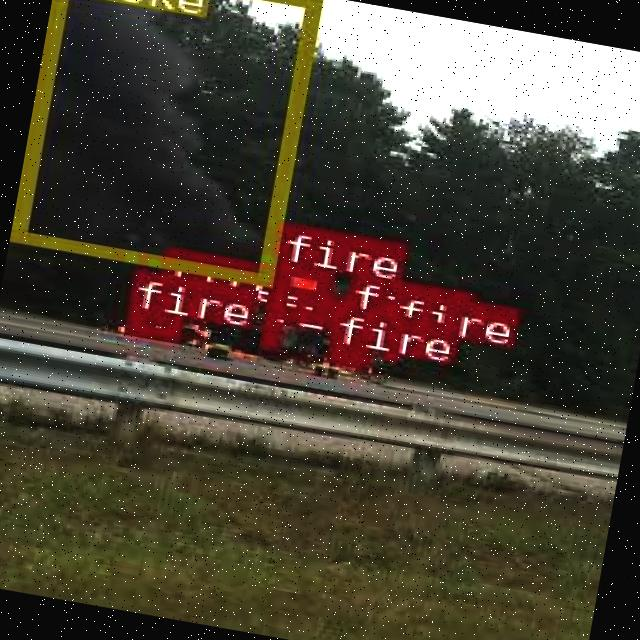fire: (266, 260, 332, 324), (123, 308, 180, 340), (153, 282, 198, 314), (324, 342, 368, 366), (340, 310, 376, 337), (381, 324, 402, 360), (256, 319, 276, 348)
smoke: (9, 0, 320, 283)
